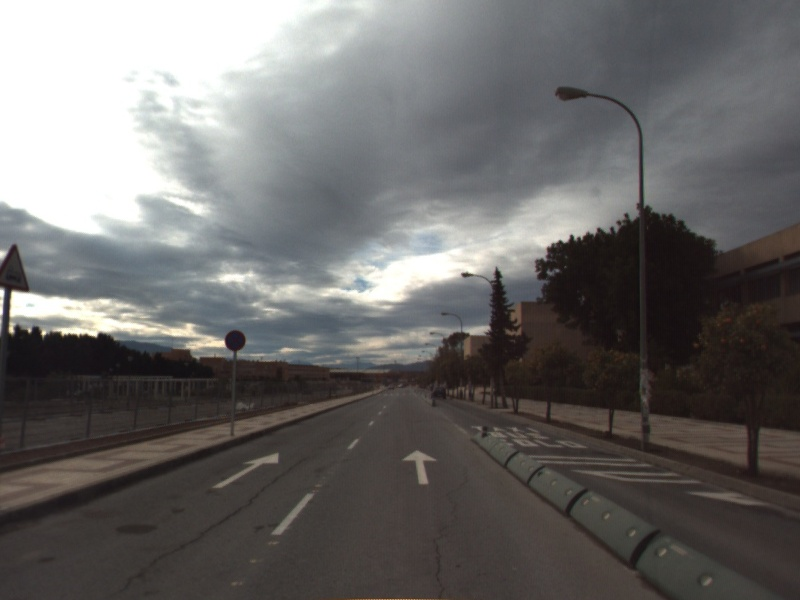STRAIGHT: (209, 450, 281, 490), (399, 447, 440, 486)
